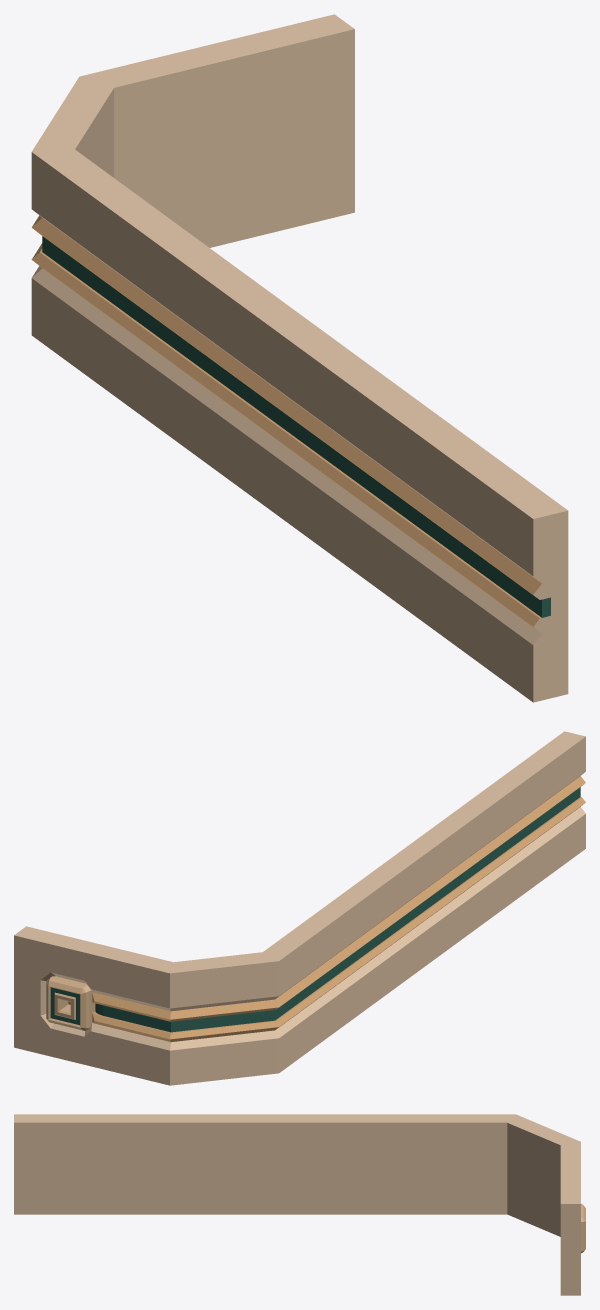
Rendered from Circuit_3.glb.
3 views of the same model, one above another, from view 1: azimuth 30°, elevation 25°; view 2: azimuth 150°, elevation 25°; view 3: azimuth 270°, elevation 25° (orthographic). The views are drawn at different scales.
Parts seen in each view (by area): view 1: mergedBlocks(Clone); view 2: mergedBlocks(Clone); view 3: mergedBlocks(Clone).
Part boxes in pixels (box(x1,y1,x2,y2)): mergedBlocks(Clone): box(31, 14, 568, 702); mergedBlocks(Clone): box(14, 731, 585, 1085); mergedBlocks(Clone): box(14, 1114, 585, 1295).
Size of the model in its own units: 6.3 by 3 by 16.95.
